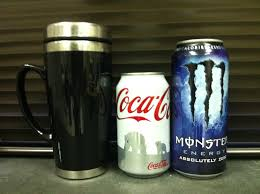can: (175, 23, 236, 184), (115, 70, 173, 184)
